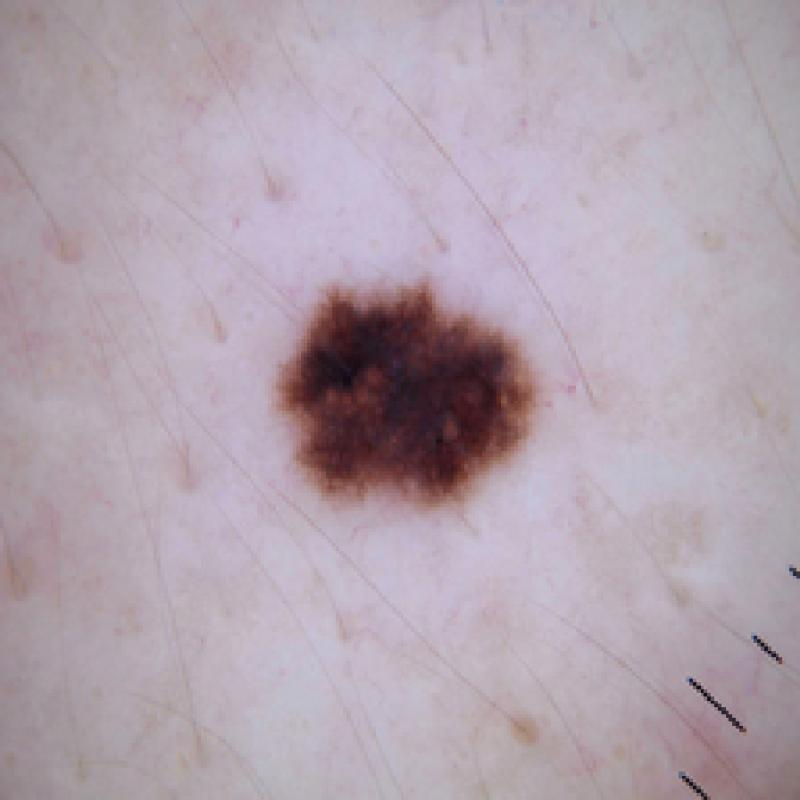benign: (255, 258, 563, 528)
